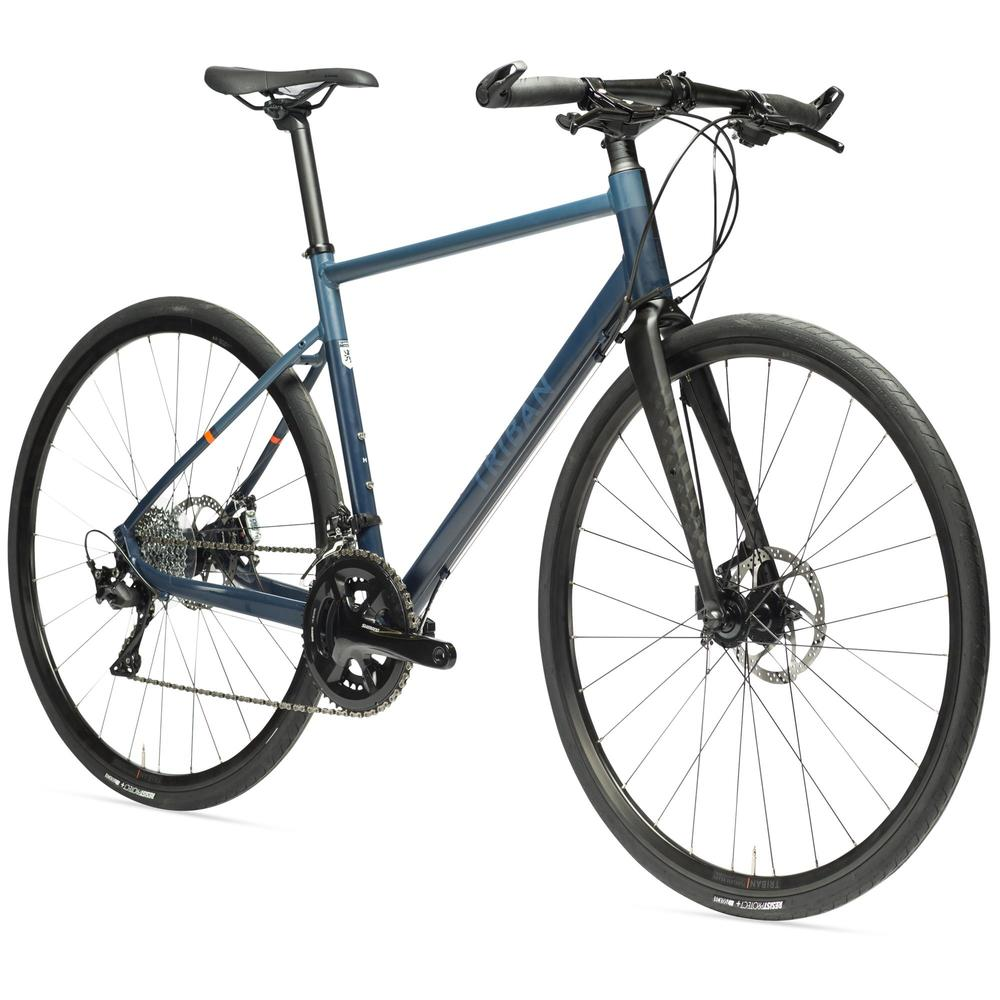RoadBike: (10, 47, 993, 910)
